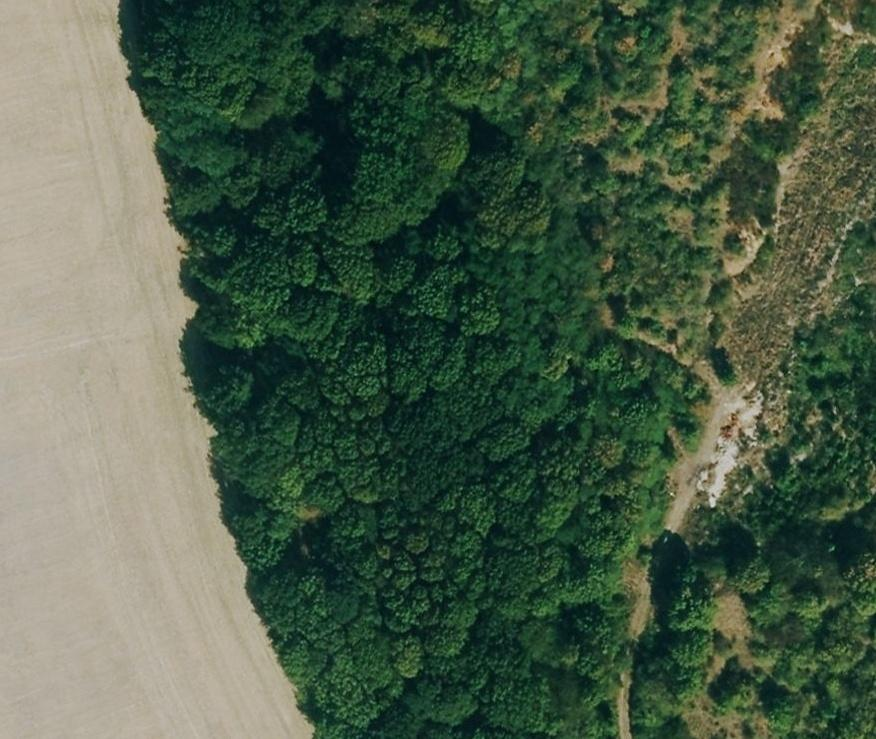field: (0, 2, 311, 737)
forest: (123, 2, 876, 737)
